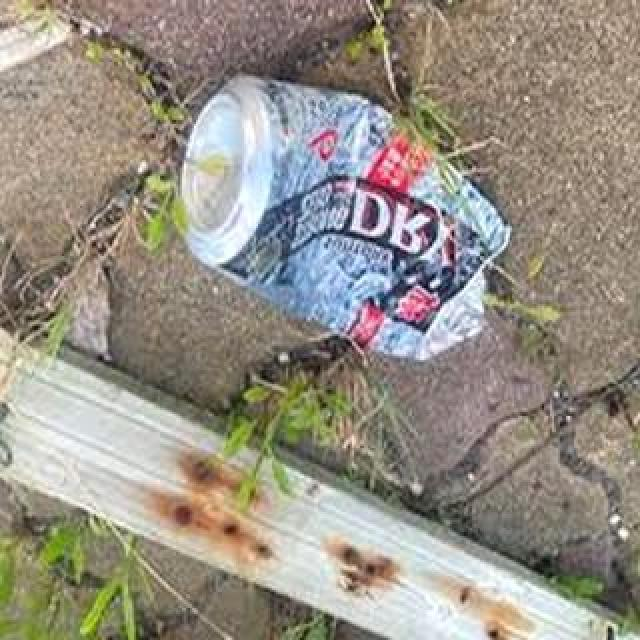Can: (176, 75, 510, 361)
